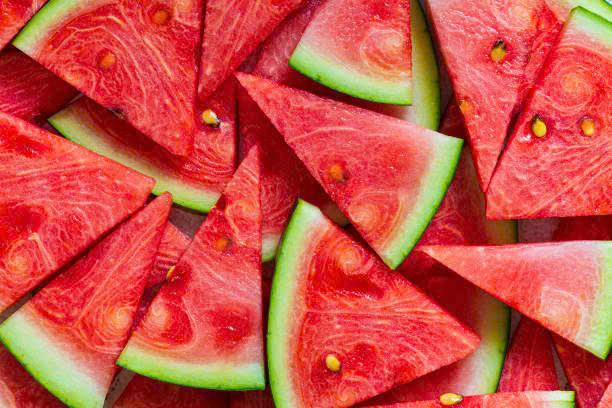watermelon: (25, 11, 340, 176), (234, 65, 484, 270), (0, 104, 172, 389), (283, 202, 478, 405), (426, 12, 612, 217), (176, 158, 305, 390), (406, 226, 612, 340)
